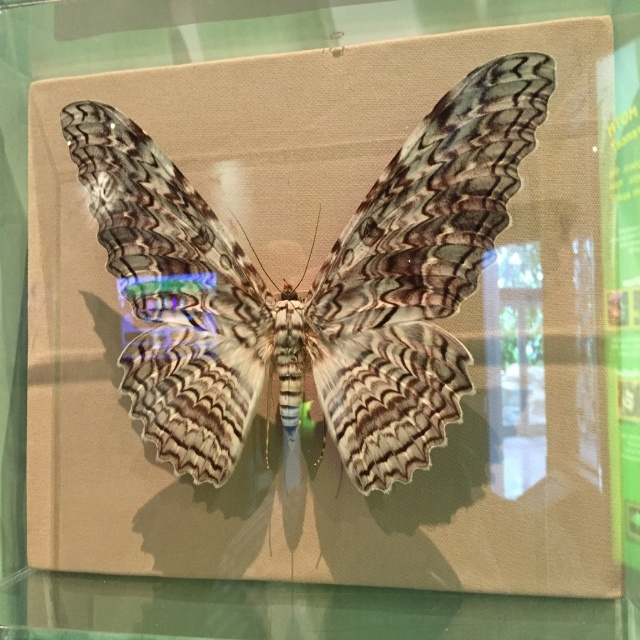Butterfly: (46, 75, 580, 527)
